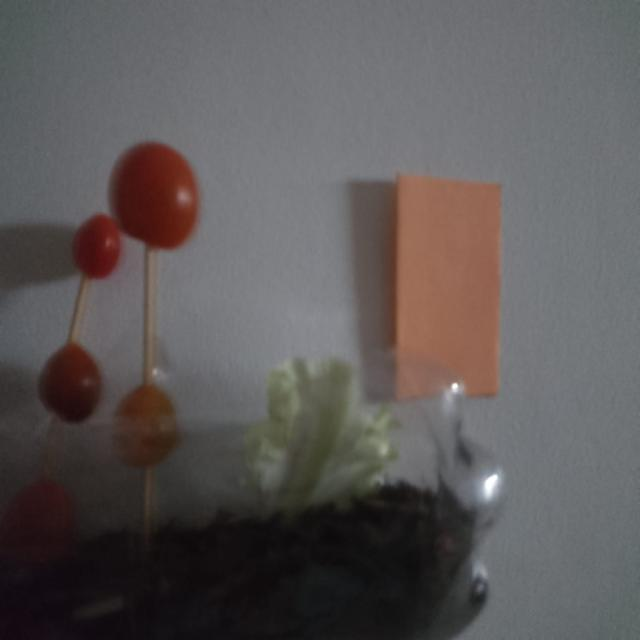card: (394, 174, 500, 395)
fruit_maturation: (116, 384, 177, 468)
fully_grown: (109, 142, 199, 249), (38, 341, 102, 422), (72, 214, 120, 278)
